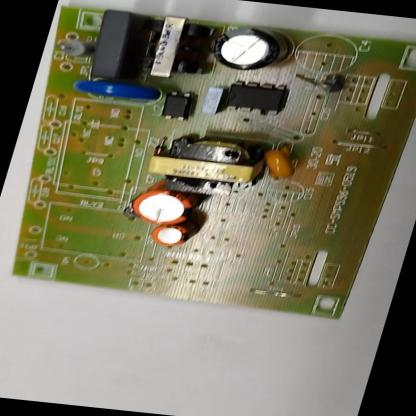Cap1: (131, 189, 197, 226)
Cap2: (149, 224, 191, 248)
Cap3: (208, 27, 290, 71)
MOSFET: (222, 80, 288, 118)
Mov: (72, 78, 160, 103)
Resistor: (55, 38, 95, 59)
Transformer: (143, 135, 265, 193), (136, 14, 215, 80)
